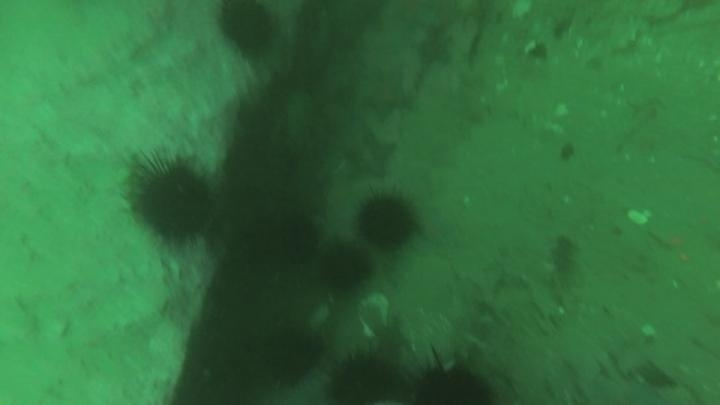echinus: (130, 157, 217, 244), (222, 133, 297, 212), (235, 206, 319, 273), (405, 352, 498, 405), (256, 323, 324, 387), (325, 349, 402, 404), (353, 190, 421, 252), (216, 2, 279, 57), (317, 243, 373, 294)
starfish: (360, 66, 413, 122), (343, 129, 398, 181), (414, 27, 456, 69)
